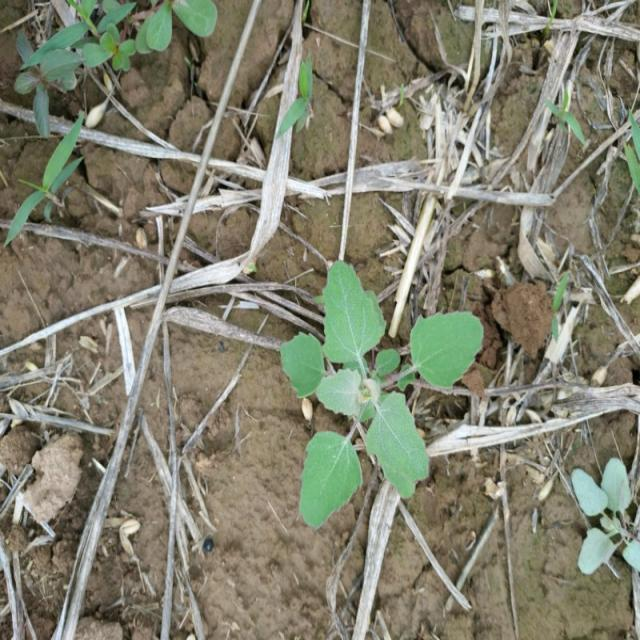goosefoots: (269, 245, 501, 502)
